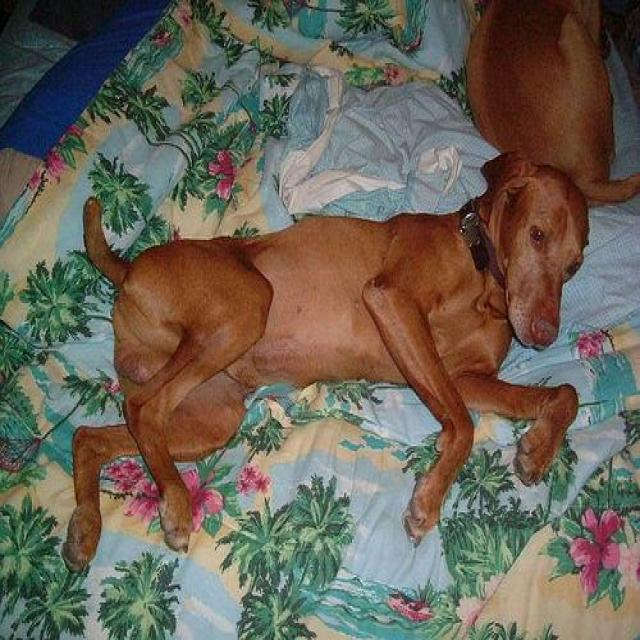vizsla: (60, 143, 590, 574)
